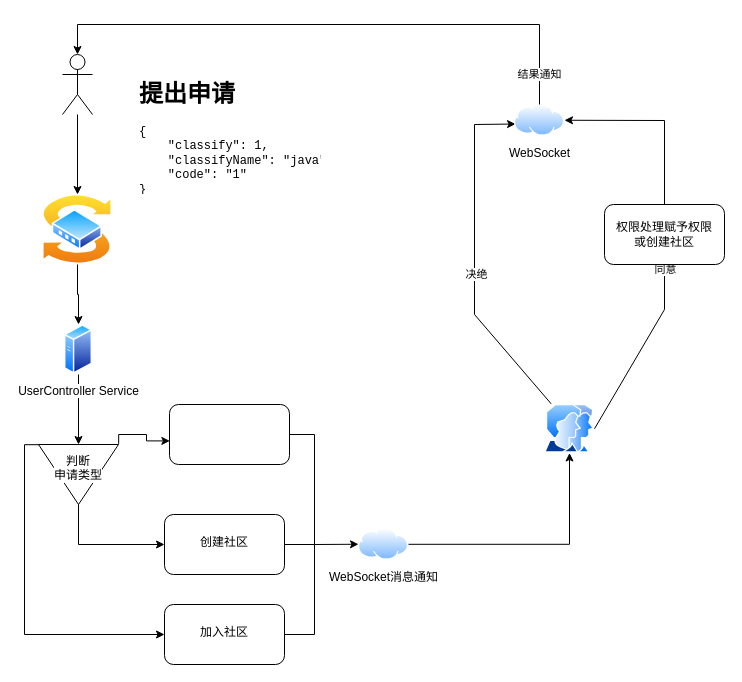
The diagram is 742 pixels wide and 682 high, and some of its shapes have lost their labels. The centre of each missing label's shape, as x and y in pixels:
"nacos网关 服务转发" belongs at [77,229].
"User" belongs at [77,84].
"管理员" belongs at [229,434].
"管理员处理" belongs at [569,428].
